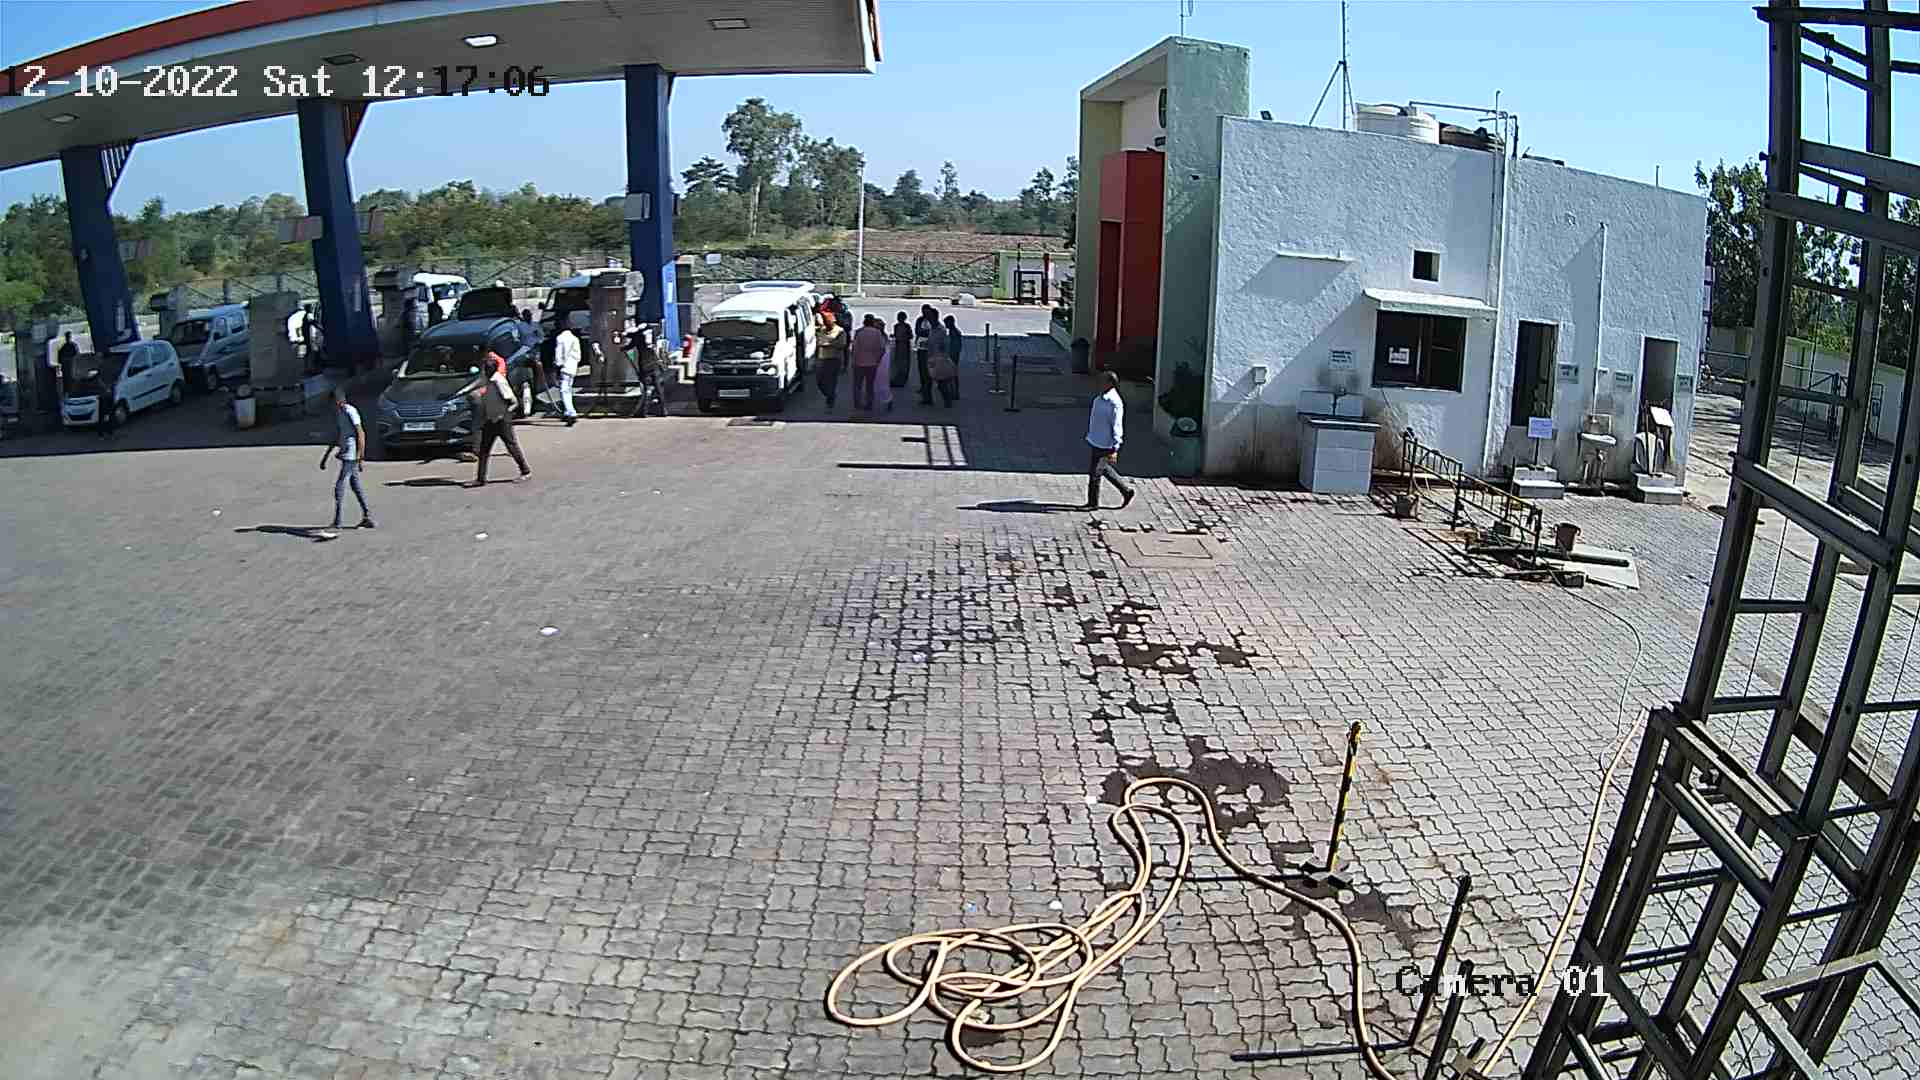Car: (357, 301, 556, 467), (669, 266, 853, 422), (44, 323, 199, 444), (150, 291, 270, 406), (526, 262, 608, 377), (389, 260, 488, 349), (270, 281, 342, 389), (430, 269, 541, 330)
